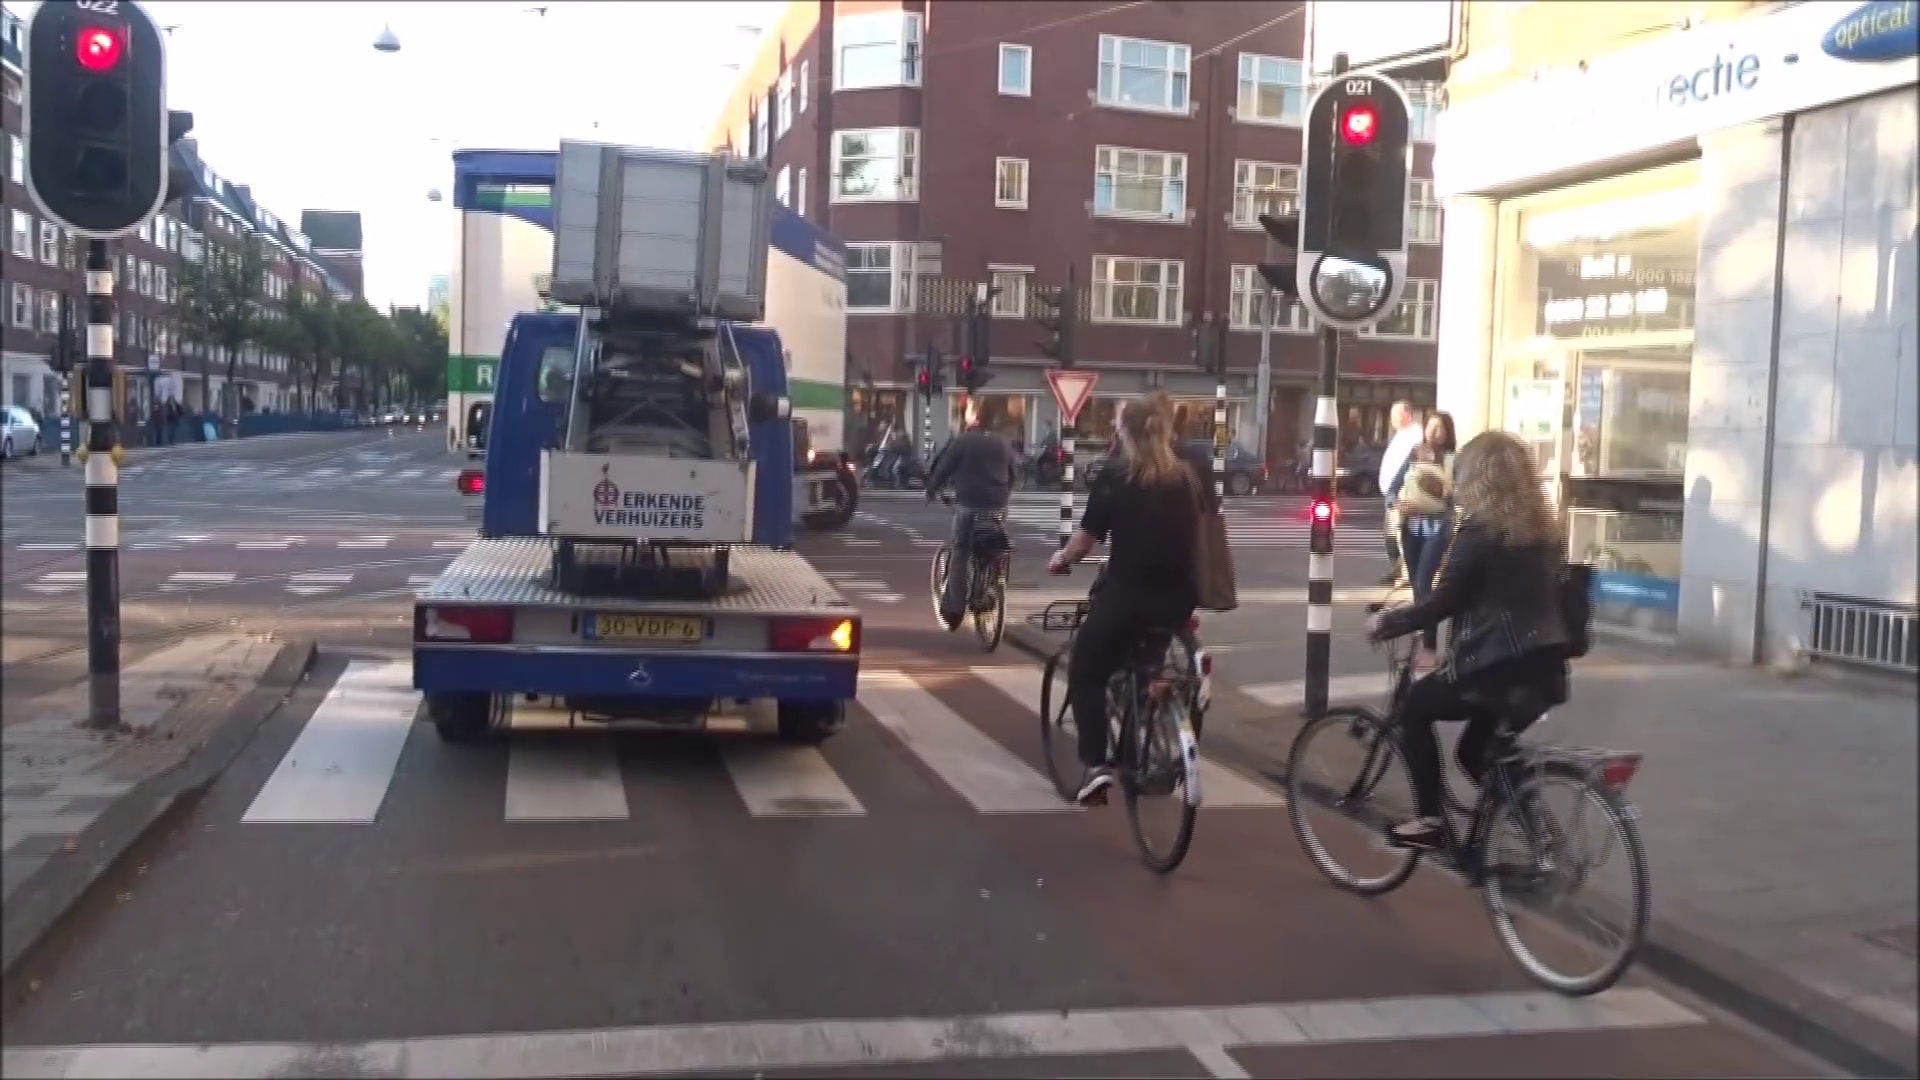cyclist_back: (1299, 431, 1661, 985), (1048, 388, 1208, 884), (934, 395, 1019, 652)
